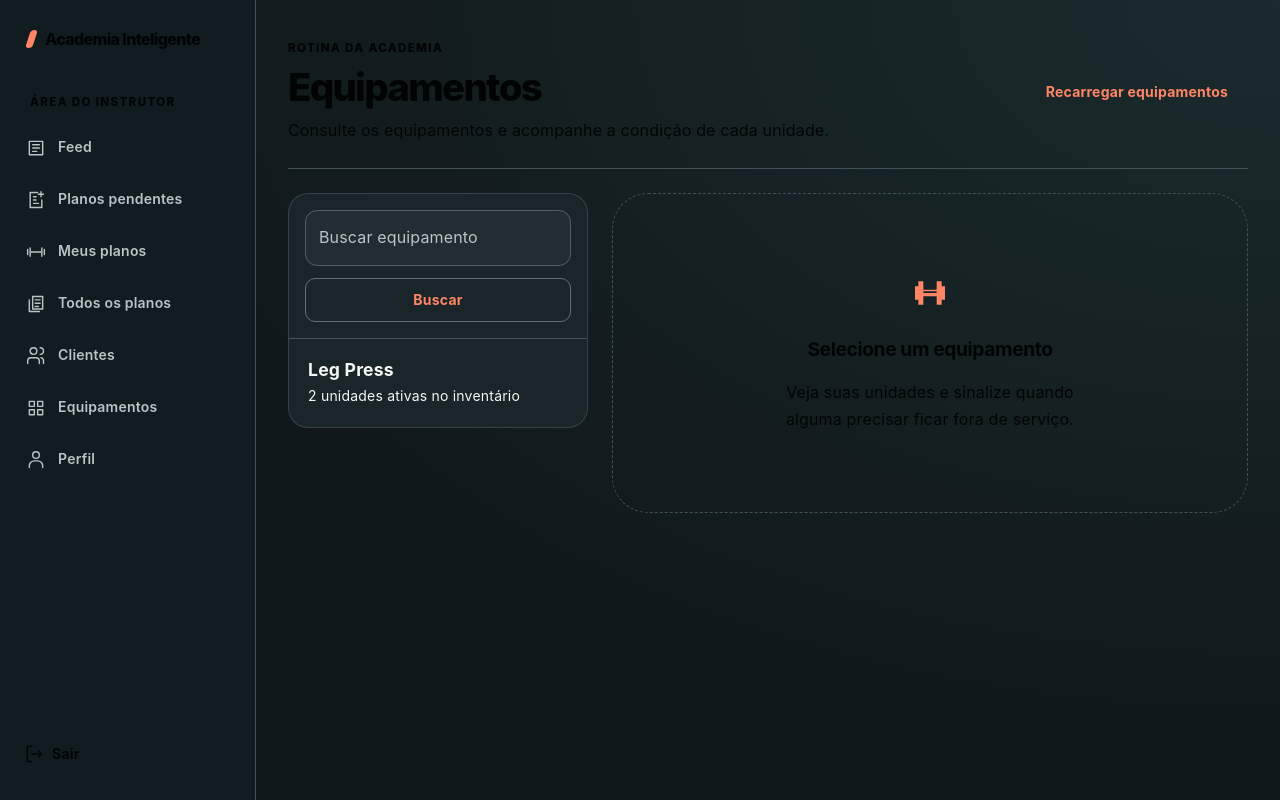
Test: shows exact states and confirms only the operational change, preserving quantity
Click the button with aria-label "Ver unidades de Leg Press": (351, 369) [289,339,587,427]
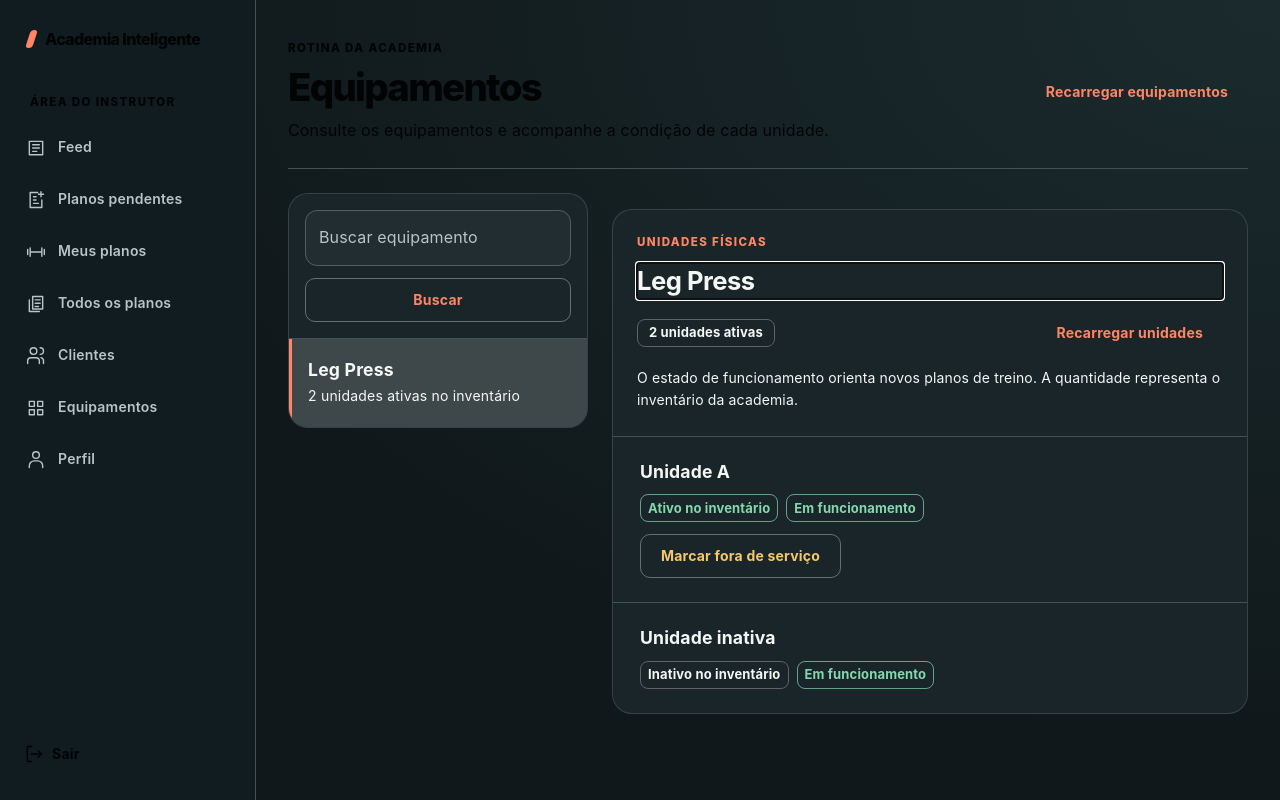
Click the button with aria-label "Marcar fora de serviço: Unidade A": (741, 556) [640,534,841,578]
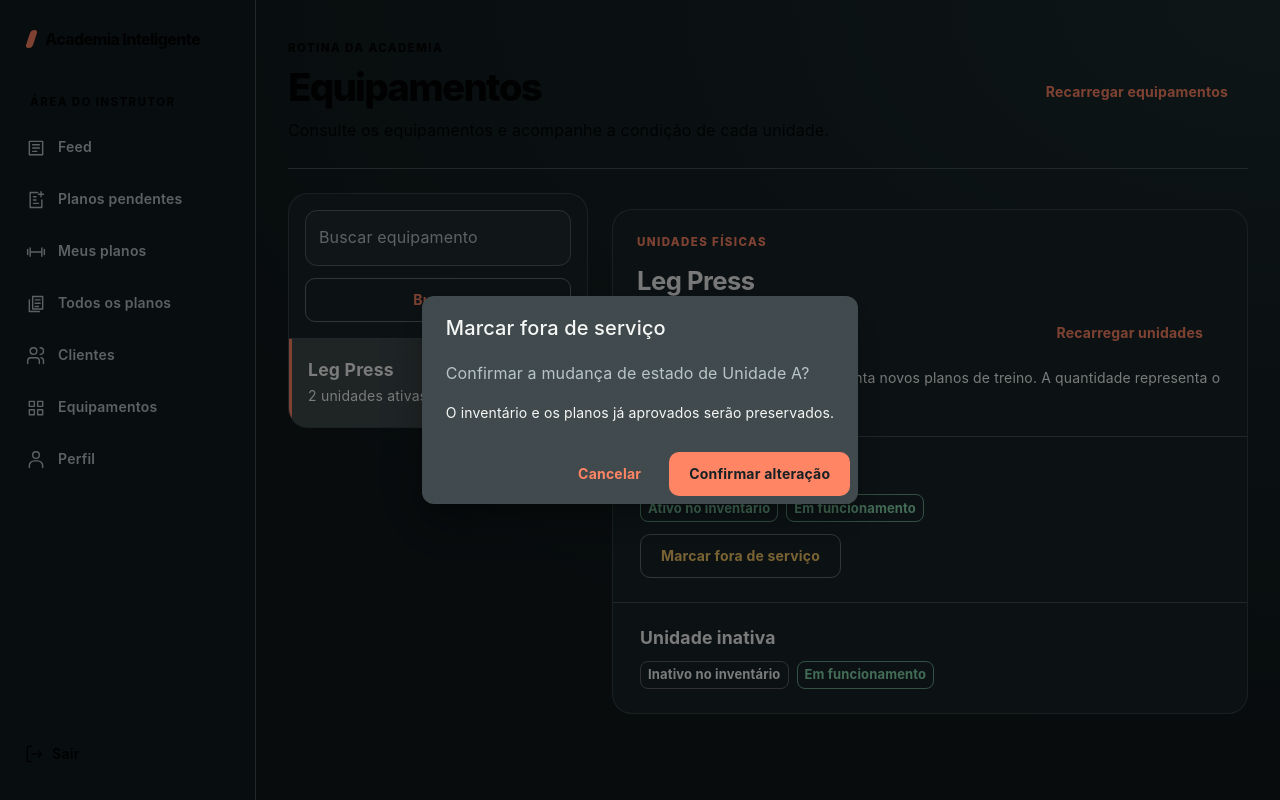
Check: the dialog "Marcar fora de serviço" is shown, box [422,296,858,504]
Click the button "Cancelar": (610, 474) [558,452,661,496]
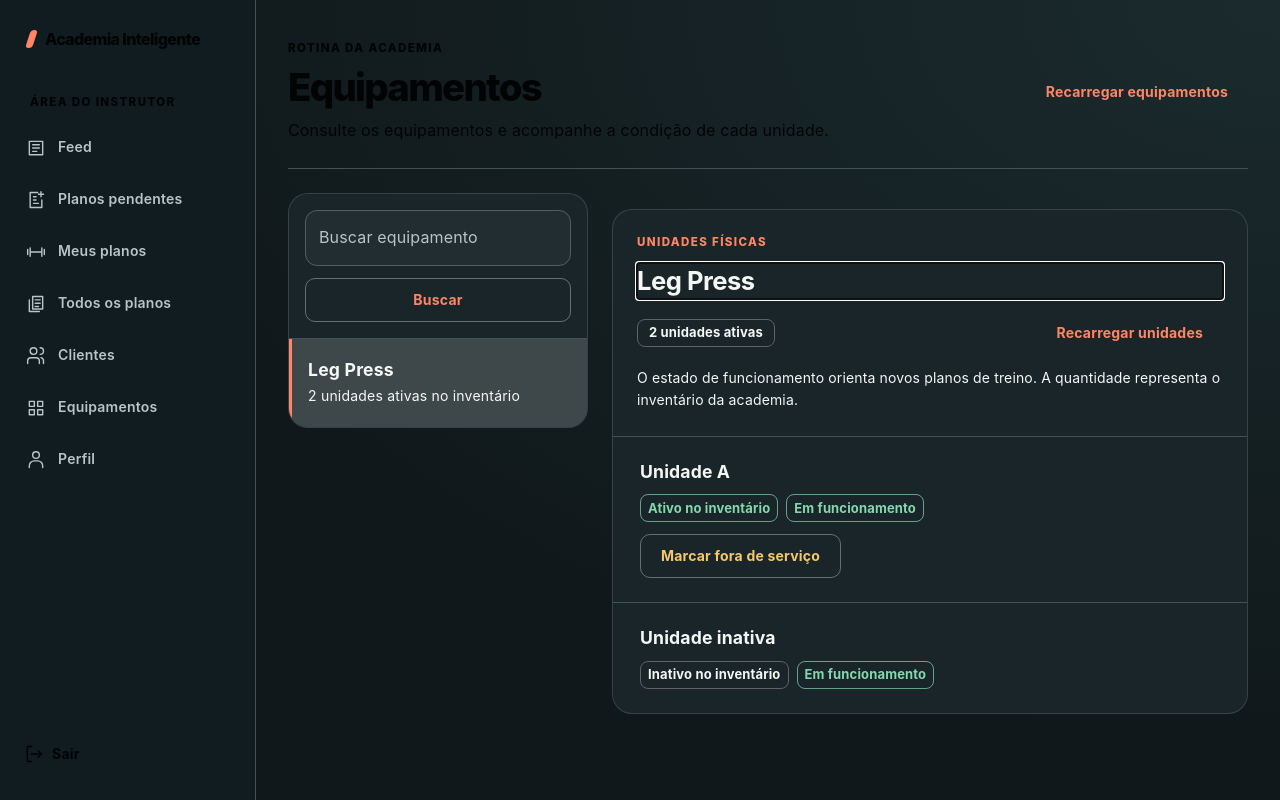
Check: the dialog is gone
Click the button with aria-label "Marcar fora de serviço: Unidade A": (741, 556) [640,534,841,578]
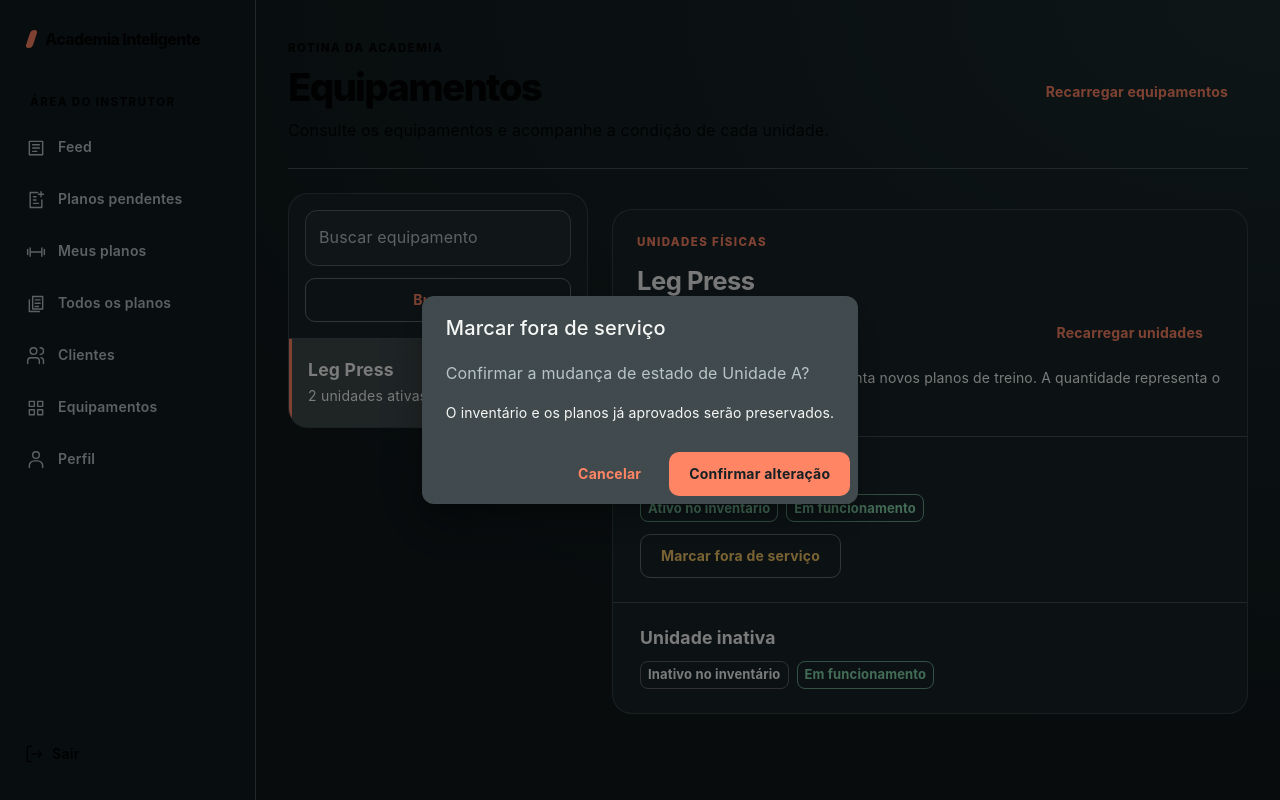
Click the button "Confirmar alteração": (760, 474) [669,452,850,496]
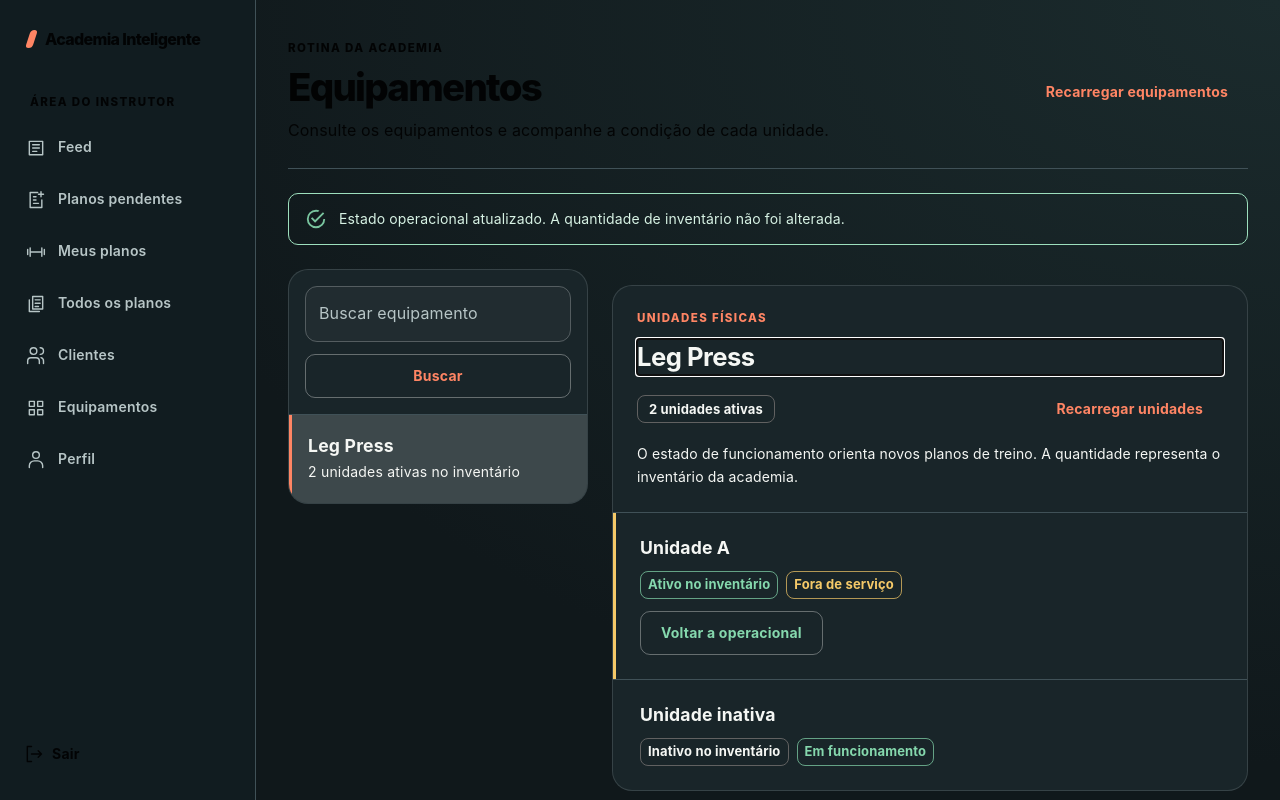
Check: the button with aria-label "Voltar a operacional: Unidade A" is enabled, box [640,611,823,655]
Check: the text "Estado operacional atualizado. A quantidade de inventário não foi alterada." is shown, box [339,210,845,227]
Check: the text "Fora de serviço" is shown, box [787,572,901,598]
